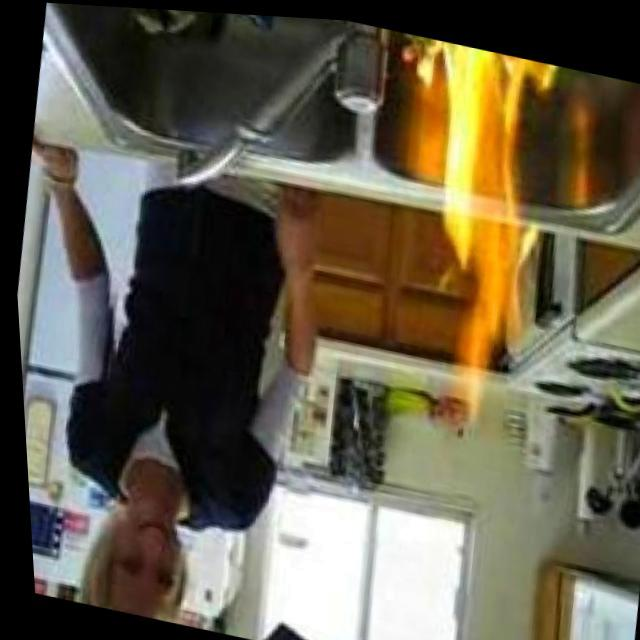fire: (364, 28, 576, 420)
